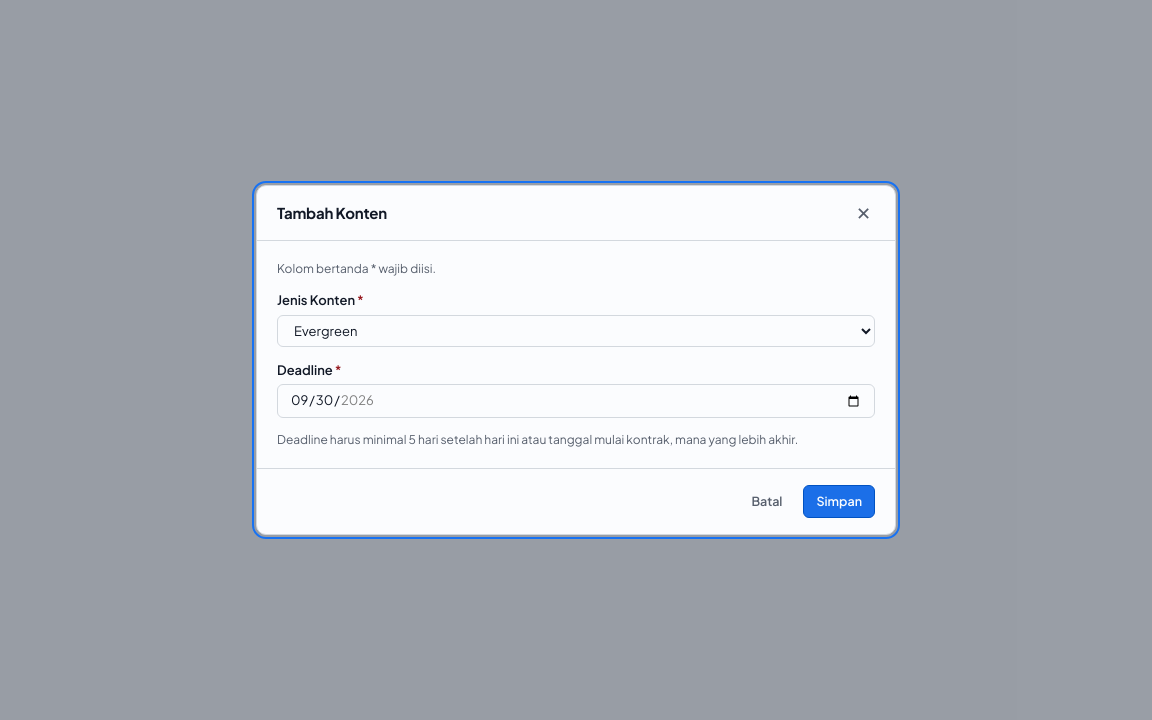
Scenario: AddContentModal › requires Name and Brief for Specific content
Step 1. Select "Specific" in the dropdown labelled "Jenis Konten" → (576, 331), box [277,315,875,347]
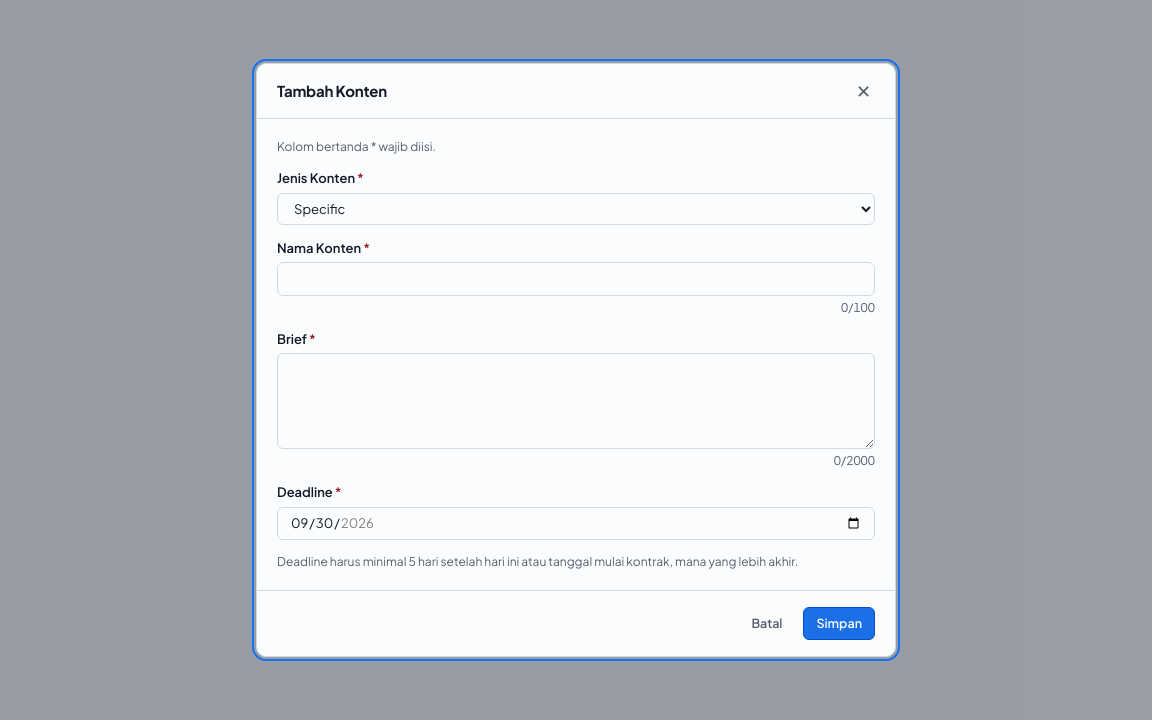
Step 2. Click the button "Simpan" → (839, 624), box [803,607,875,640]
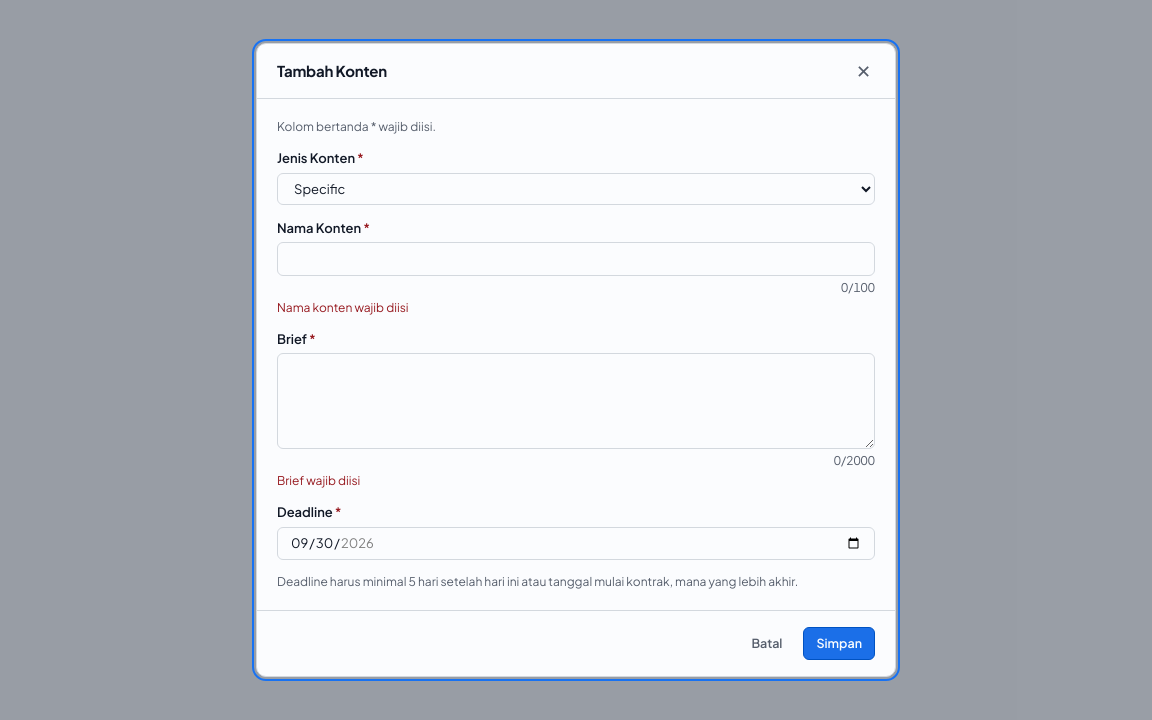
Check: the text "Nama konten wajib diisi" is shown, box [277,300,408,315]
Check: the text "Brief wajib diisi" is shown, box [277,473,360,488]
